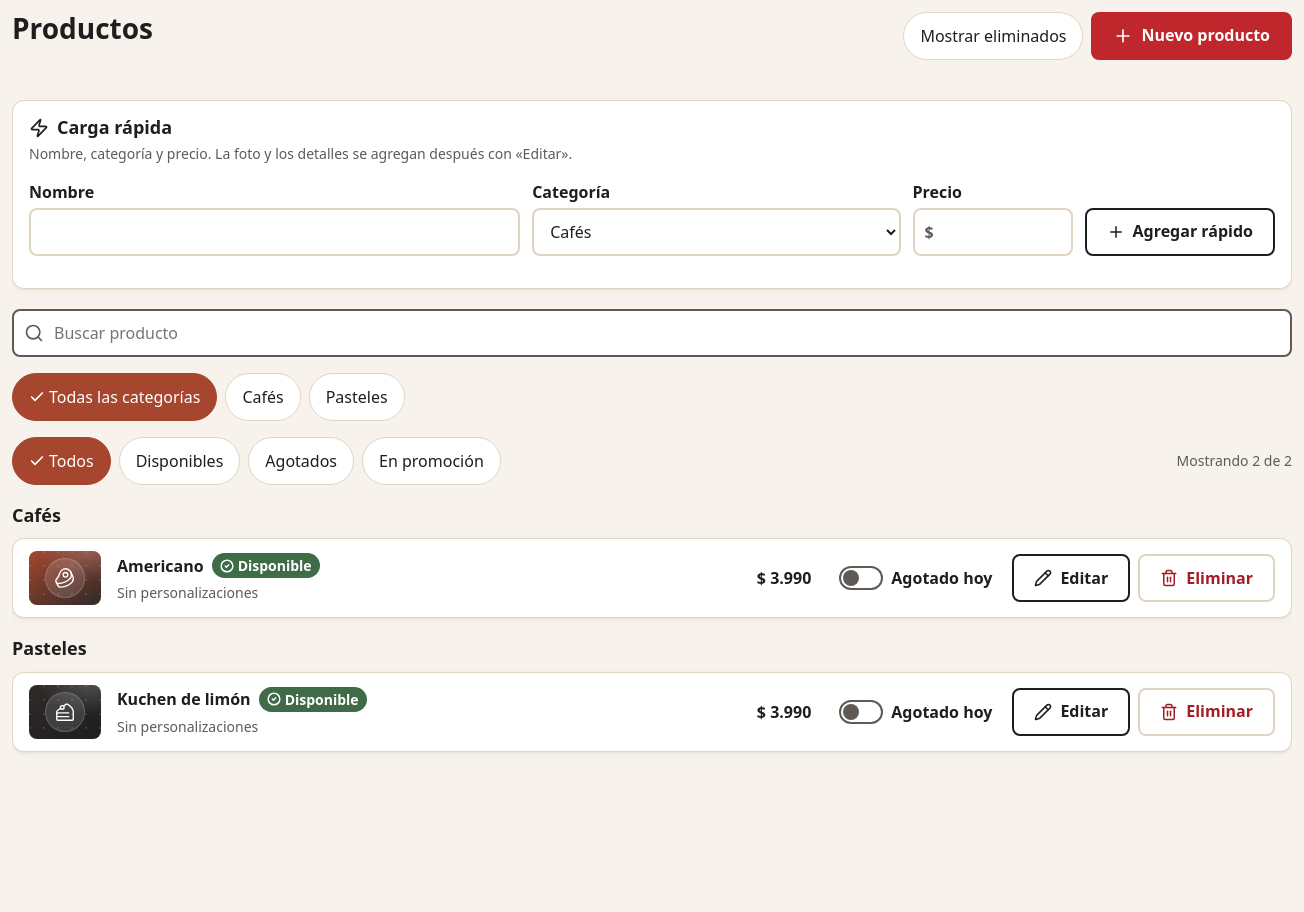
Test: ProductListPage «Agotado hoy» › goes back and says why when the server refuses
Click the switch named "Agotado hoy: Americano".
click(916, 578)  # box [827,554,1004,602]
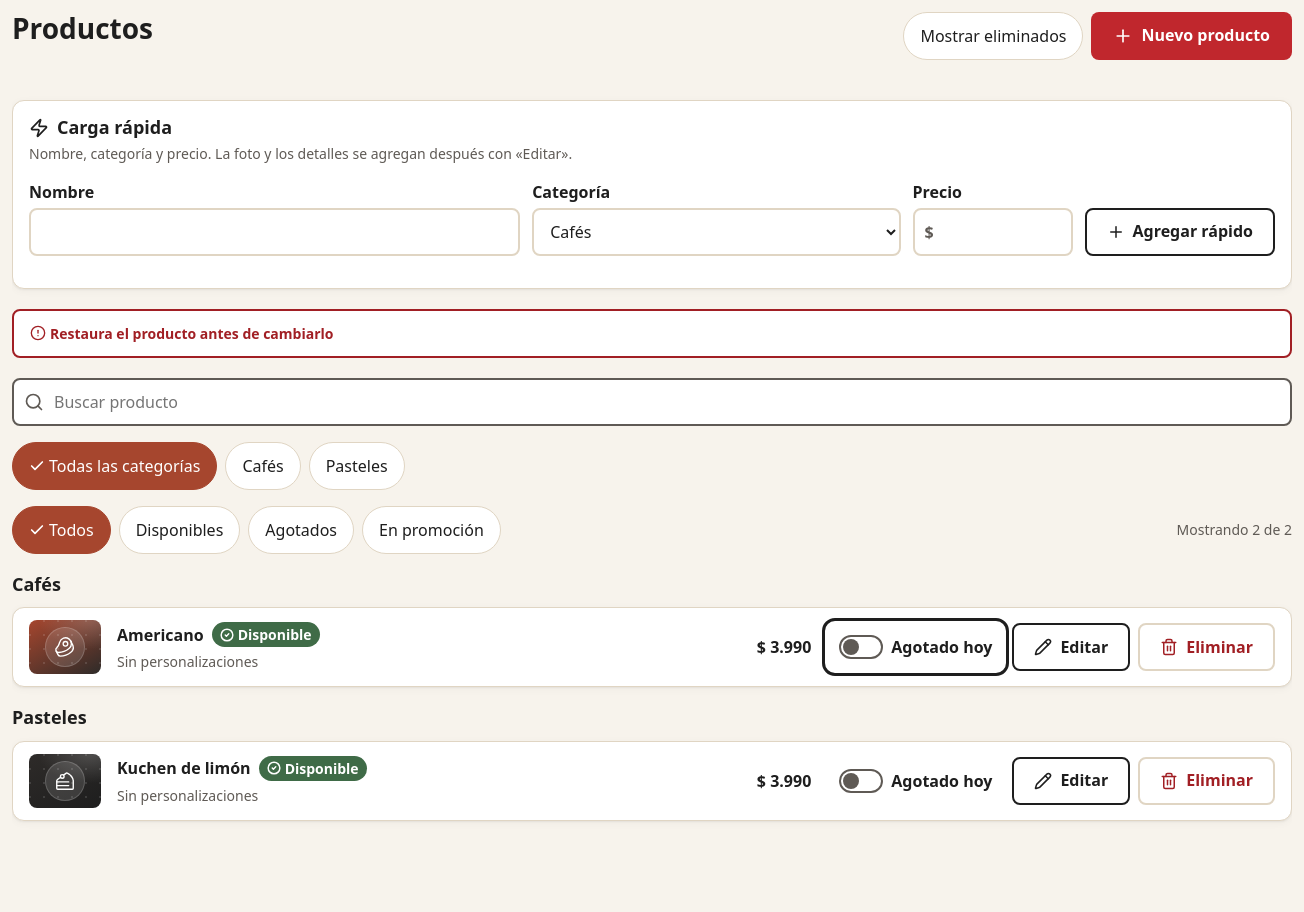
Result: the text "Restaura el producto antes de cambiarlo" is shown at [30,324,334,343]
